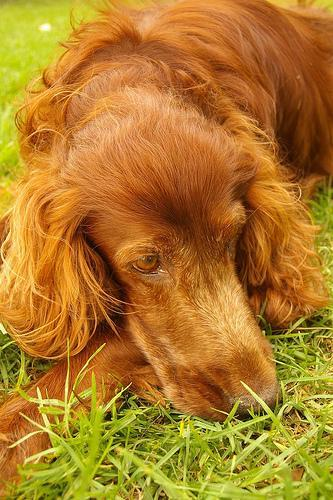Irish_setter: (2, 2, 331, 498)
